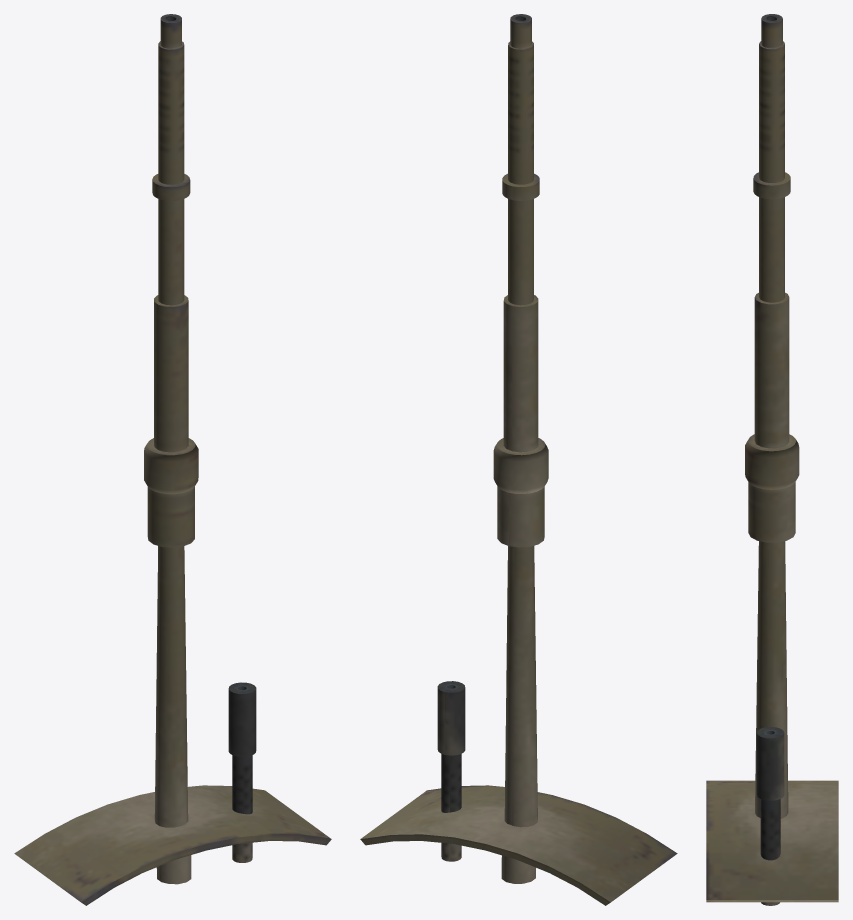
File: Gun_02.glb
The picture shows the model from 3 angles, left to right: view 1: azimuth 30°, elevation 25°; view 2: azimuth 150°, elevation 25°; view 3: azimuth 270°, elevation 25°; orthographic projection.
Visible parts, largest first — view 1: set_0_group_0; view 2: set_0_group_0; view 3: set_0_group_0.
Boxes of the visible parts, bbox=[...] form: set_0_group_0: bbox=[14, 14, 331, 905]; set_0_group_0: bbox=[360, 14, 677, 905]; set_0_group_0: bbox=[706, 14, 838, 905].
Size of the model in its own units: 0.5565 by 1.82 by 0.2568.
Materials: 1 (1 with a texture image).
